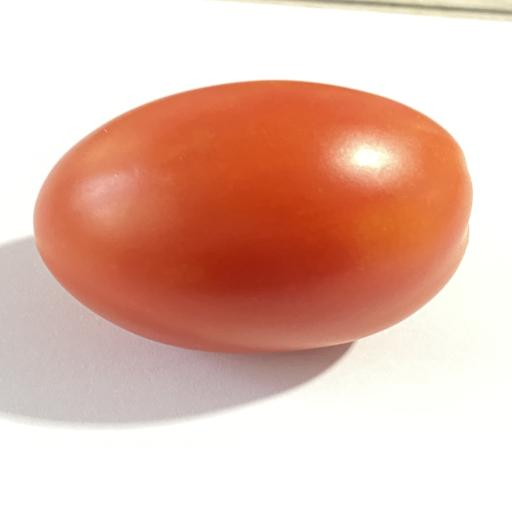ripe: (34, 81, 472, 353)
